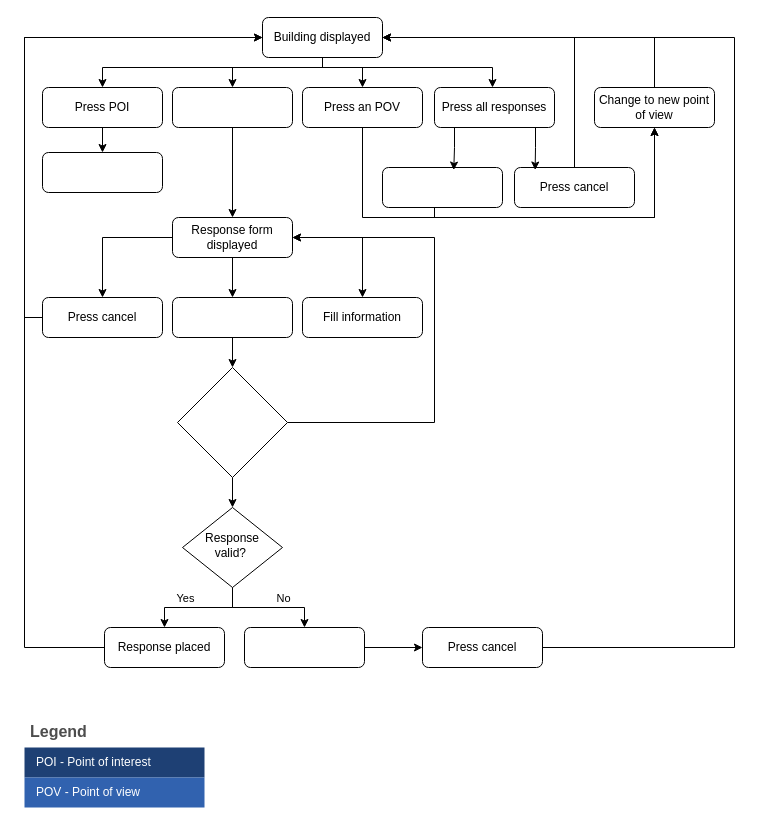
Some shapes in this 760 by 825 pixel diagram are drawn without their labels. The shapes that lost their labels are listed below. From the top down, each one's box as (x1, y1, x2, y2) in pixels, then its label:
(172, 86, 292, 128): Press somewhere on the map
(42, 152, 162, 192): Displays new window with POI
(382, 166, 502, 208): Press an reaction
(172, 296, 292, 338): Press submit
(176, 366, 288, 478): All information filled?
(244, 626, 364, 668): Open error modal
